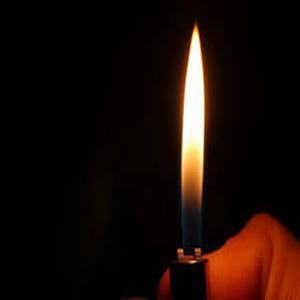fire: (177, 19, 208, 256)
